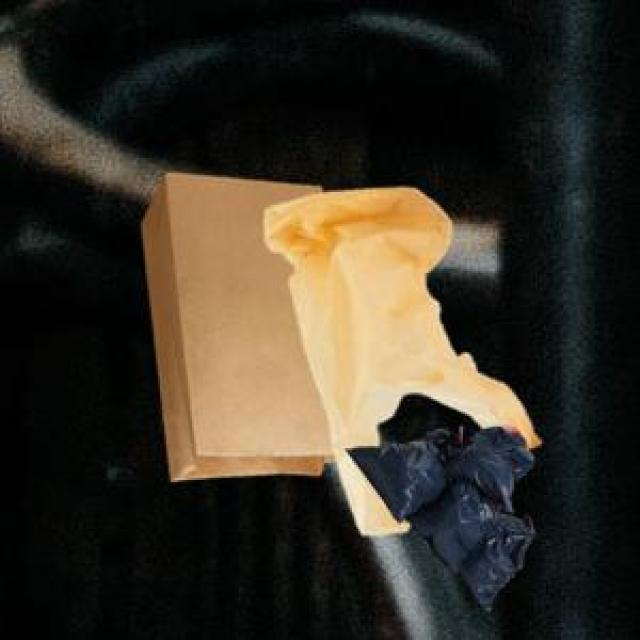miscellaneous trash: (345, 422, 531, 606)
paper: (139, 169, 333, 476)
